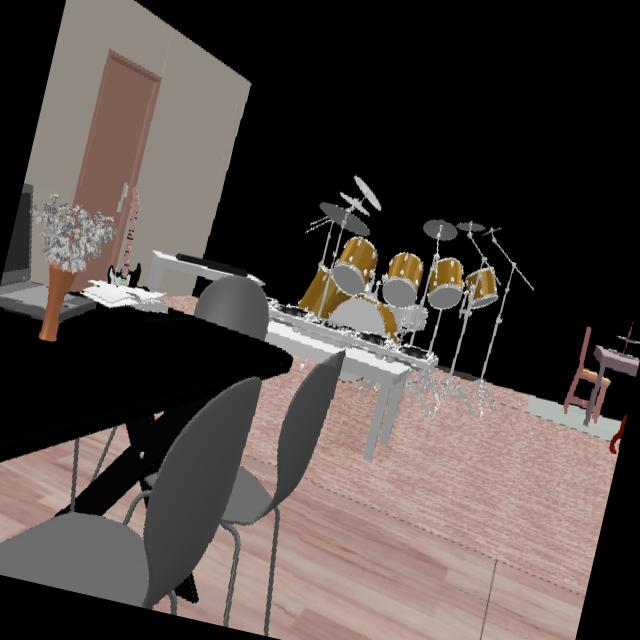chair: (0, 352, 342, 633), (194, 276, 269, 340), (564, 328, 596, 410), (592, 377, 610, 422)
laptop: (0, 183, 47, 318), (58, 293, 94, 321)
table: (0, 303, 292, 514), (341, 349, 409, 459), (583, 349, 638, 425), (265, 323, 339, 362)
